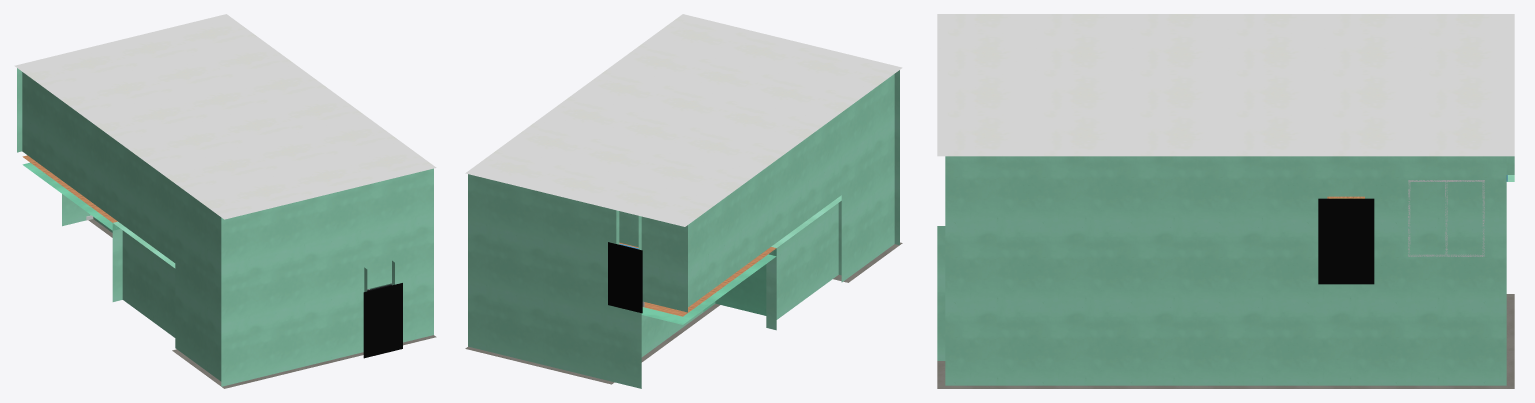
Rendered from rdwe_stair_loop.glb.
The picture shows the model from 3 angles, left to right: view 1: azimuth 30°, elevation 25°; view 2: azimuth 150°, elevation 25°; view 3: azimuth 270°, elevation 25°; orthographic projection. The views are drawn at different scales.
Parts seen in each view (by area): view 1: Wall_Mint, Ceil_White, Void, Floor_Concrete, Stair_Mint, Stair_Tread; view 2: Wall_Mint, Ceil_White, Stair_Mint, Void, Floor_Concrete, Stair_Tread; view 3: Wall_Mint, Ceil_White, Void, Floor_Concrete, Trim_Mint.
Part boxes in pixels (box(x1,y1,x2,y2)): Wall_Mint: box(17, 68, 433, 386); Ceil_White: box(14, 14, 436, 219); Void: box(363, 283, 402, 358); Floor_Concrete: box(88, 219, 436, 388); Stair_Mint: box(22, 162, 120, 230); Stair_Tread: box(22, 155, 117, 222); Wall_Mint: box(468, 70, 899, 388); Ceil_White: box(465, 14, 902, 226); Stair_Mint: box(641, 248, 776, 324); Void: box(608, 242, 642, 313); Floor_Concrete: box(465, 242, 902, 384); Stair_Tread: box(619, 243, 776, 316); Wall_Mint: box(937, 156, 1514, 385); Ceil_White: box(937, 14, 1514, 156); Void: box(1318, 198, 1374, 284); Floor_Concrete: box(937, 294, 1514, 388); Trim_Mint: box(1408, 180, 1484, 256).
Bounding box in the file's own units: 8.55 × 6.45 × 14.7.
Materials: 23 (14 with a texture image).
